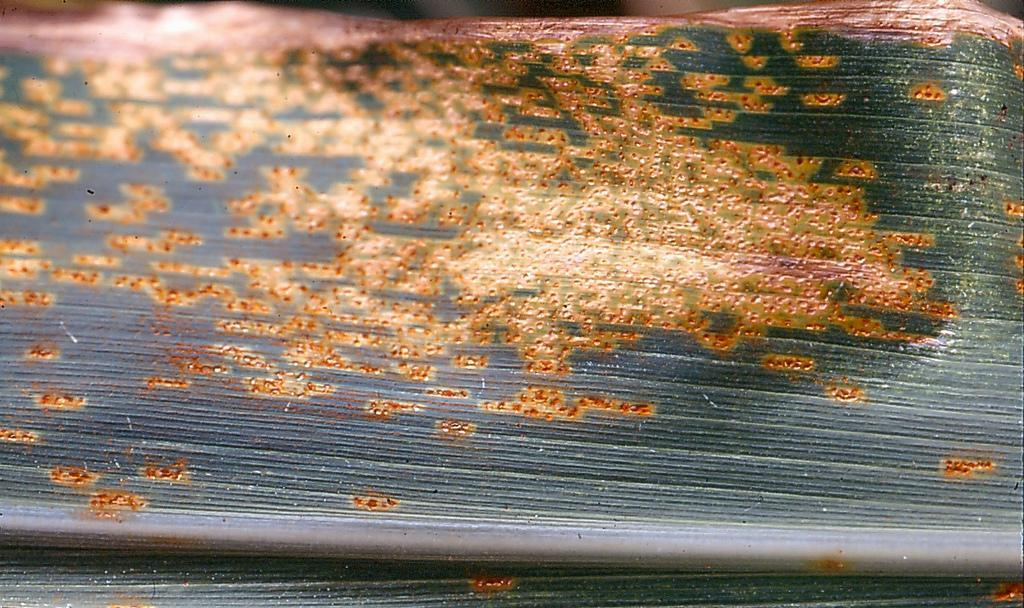Corn_Common_Rust: (0, 0, 947, 366), (0, 366, 663, 428), (0, 432, 202, 517), (947, 0, 1024, 52), (792, 375, 881, 411), (452, 565, 534, 597), (807, 546, 864, 590), (334, 484, 422, 511), (1003, 191, 1024, 301), (934, 452, 997, 482), (986, 574, 1024, 608), (1003, 52, 1024, 94)
